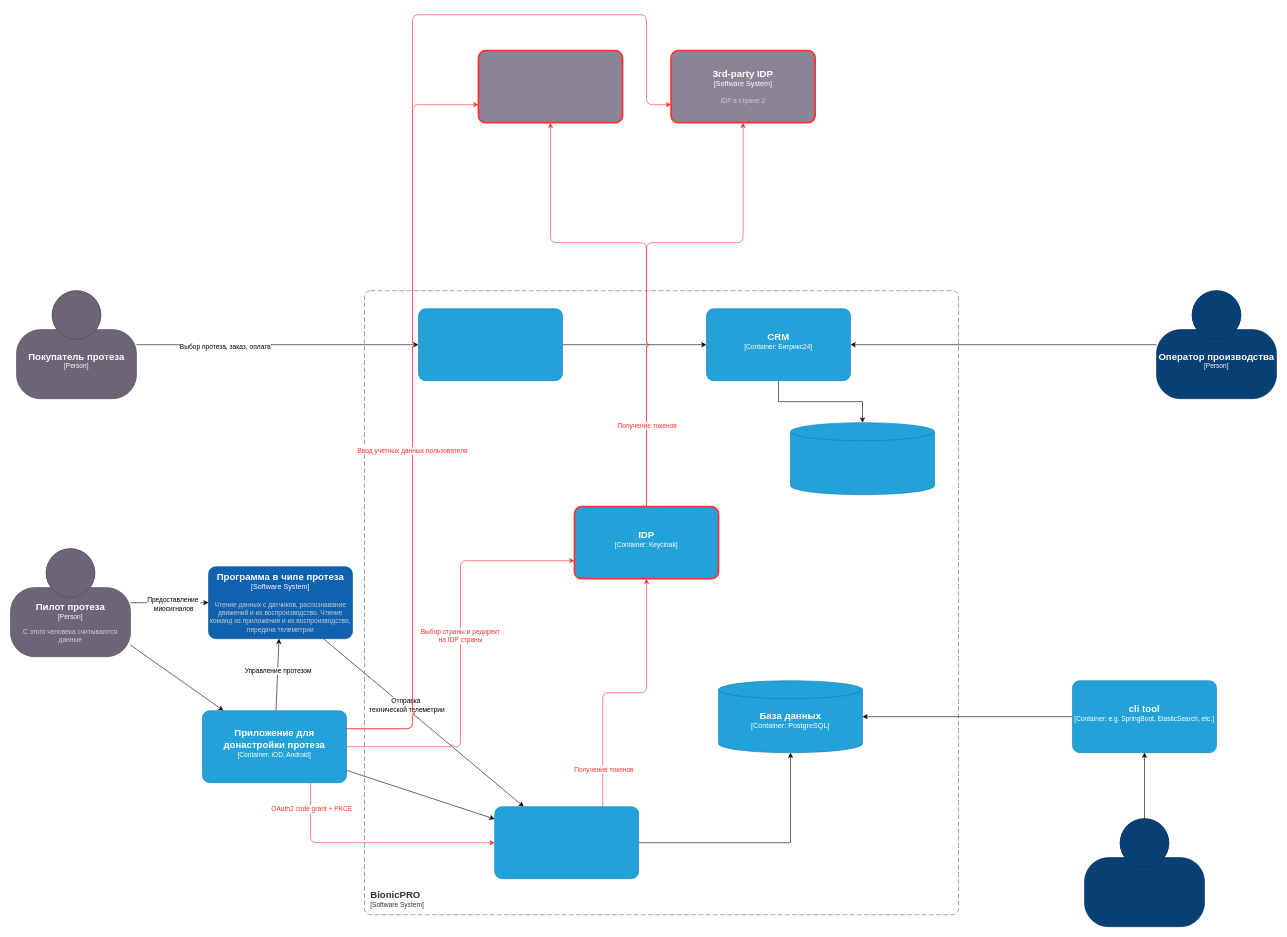
The diagram is 1287 pixels wide and 937 high, and some of its shapes have lost their labels. Each missing label, with the centre of its shape:
"3rd-party IDP [Software System] IDP в стране 1" goes at (x=550, y=86).
"API [Container: e.g. SpringBoot, ElasticSearch, etc.]" goes at (x=566, y=842).
"CRM DB [Container: e.g. Oracle Database 12]" goes at (x=862, y=458).
"ML-инженер [Person]" goes at (x=1144, y=872).
"Интернет-магазин [Container: Битрикс24]" goes at (x=490, y=344).
